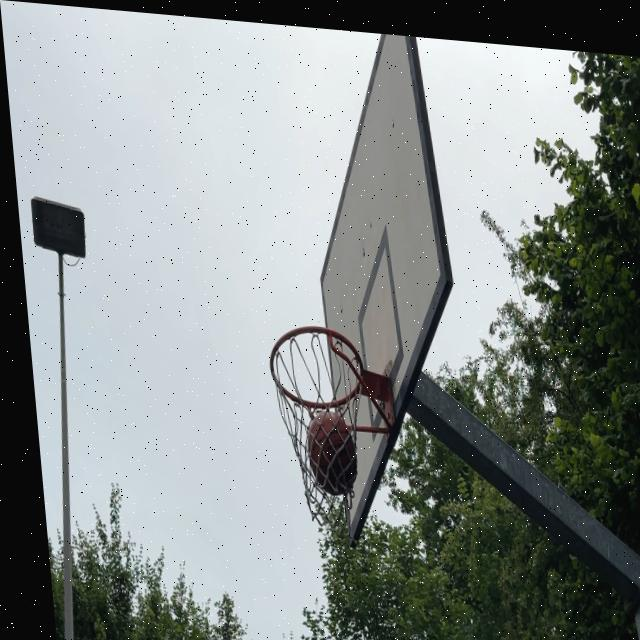Goal: (305, 408, 361, 495)
